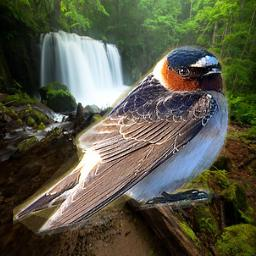Swallow: (13, 45, 231, 238)
